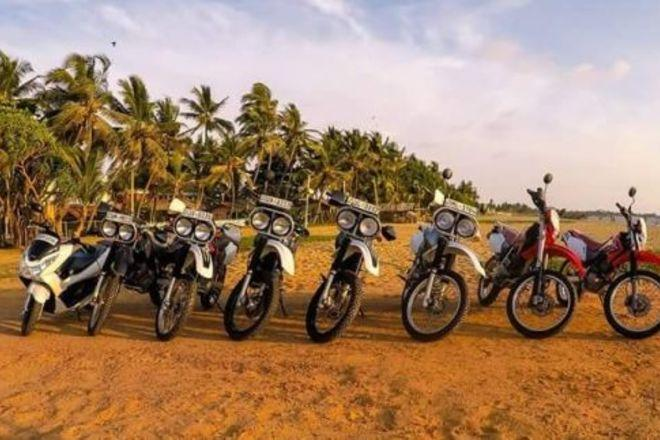motorbike: (477, 173, 585, 340), (556, 185, 660, 338), (399, 169, 487, 343), (305, 189, 395, 342), (224, 193, 306, 340), (154, 201, 238, 340), (86, 203, 168, 335), (18, 203, 98, 335)
